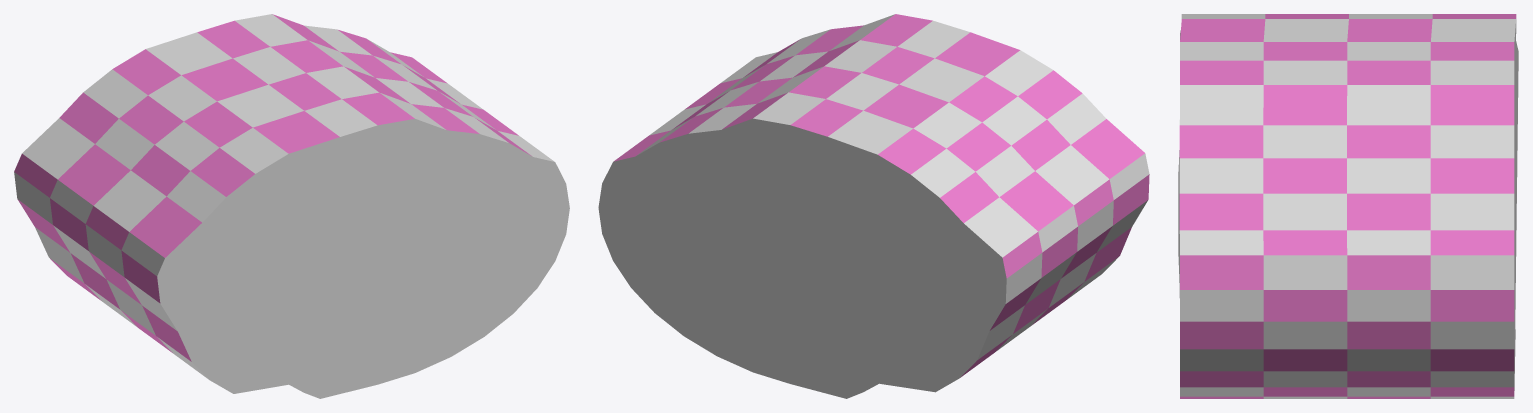
The model's file is obstacle1.fbx.
The picture shows the model from 3 angles, left to right: view 1: azimuth 30°, elevation 25°; view 2: azimuth 150°, elevation 25°; view 3: azimuth 270°, elevation 25°; orthographic projection. The views are drawn at different scales.
Parts seen in each view (by area): view 1: Cylinder.001; view 2: Cylinder.001; view 3: Cylinder.001.
Part boxes in pixels (<box>): Cylinder.001: <box>14,14,569,398</box>; Cylinder.001: <box>598,14,1149,398</box>; Cylinder.001: <box>1178,14,1518,398</box>.
Bounding box in the file's own units: 780 × 472 × 479.
